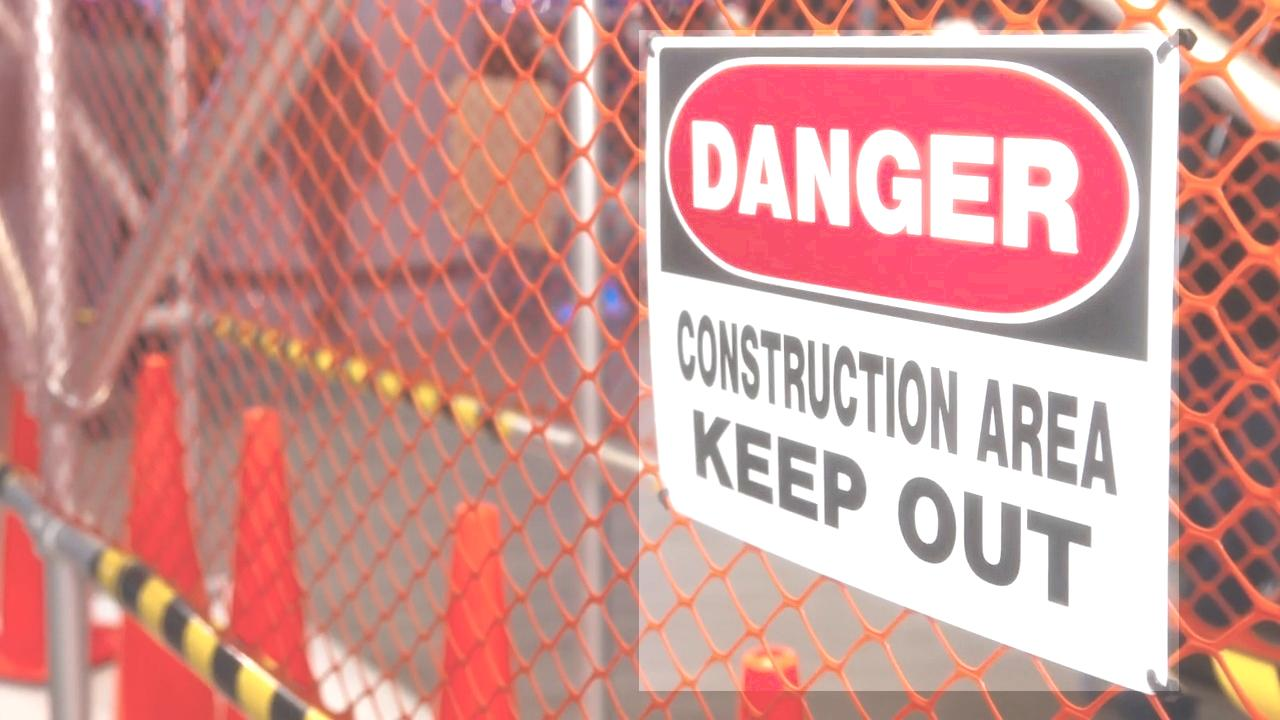safety_signage: (639, 30, 1179, 691)
